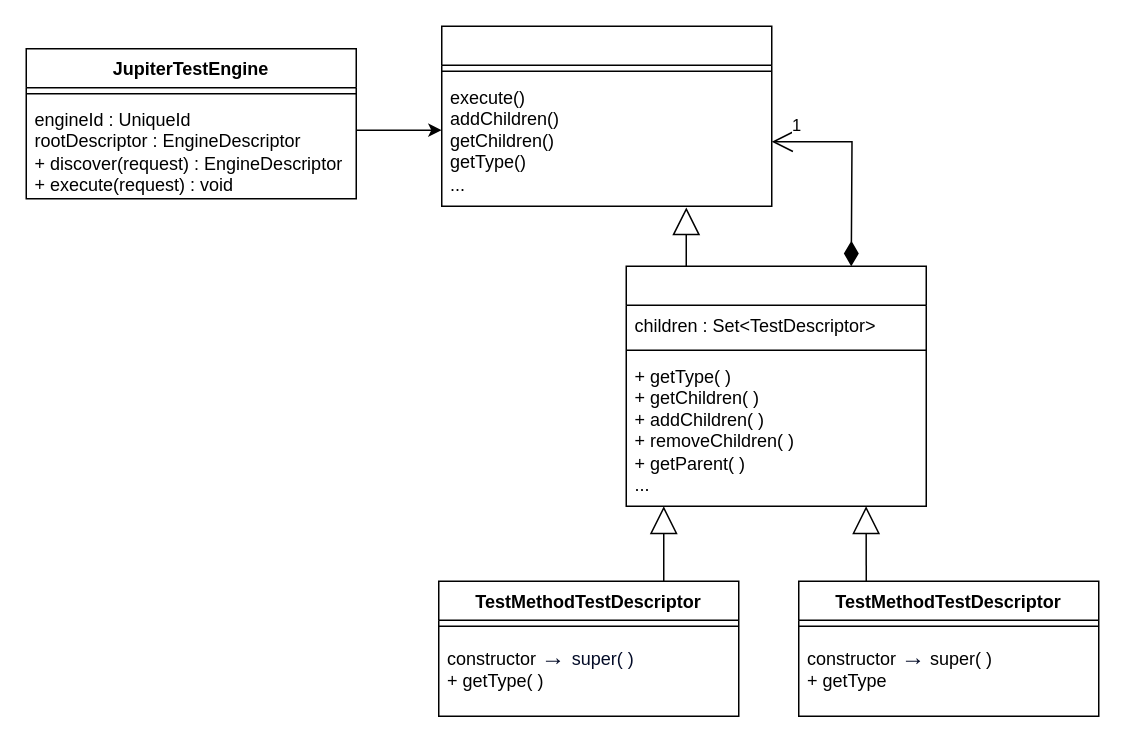
This 1125x747 diagram has some shape labels left out. The shapes that lost their labels are listed below. From the top down, each one's box as (x1, y1, x2, y2) in pixels, then its label:
(440, 25, 772, 206): TestDescriptor
(625, 265, 926, 506): AbstractTestDescriptor
